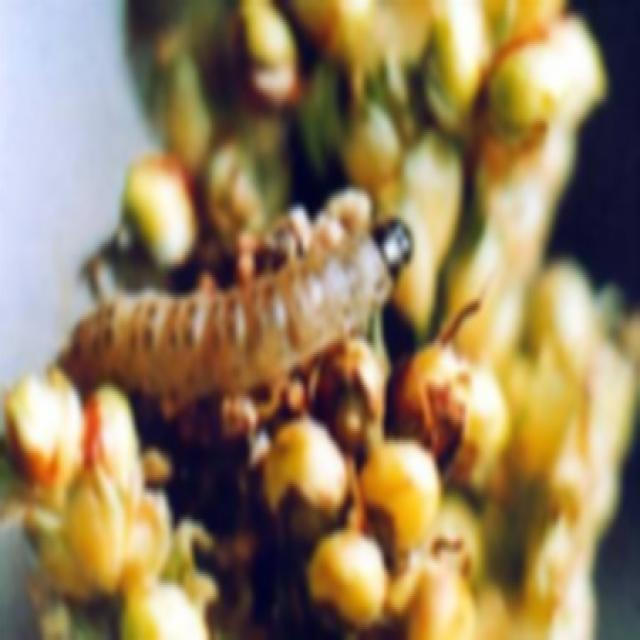peach borer: (52, 219, 422, 377)
